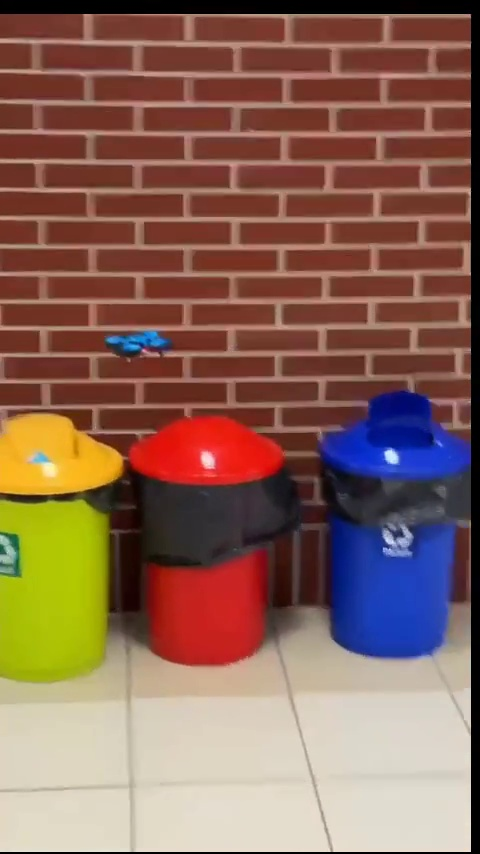drone: (108, 328, 172, 358)
